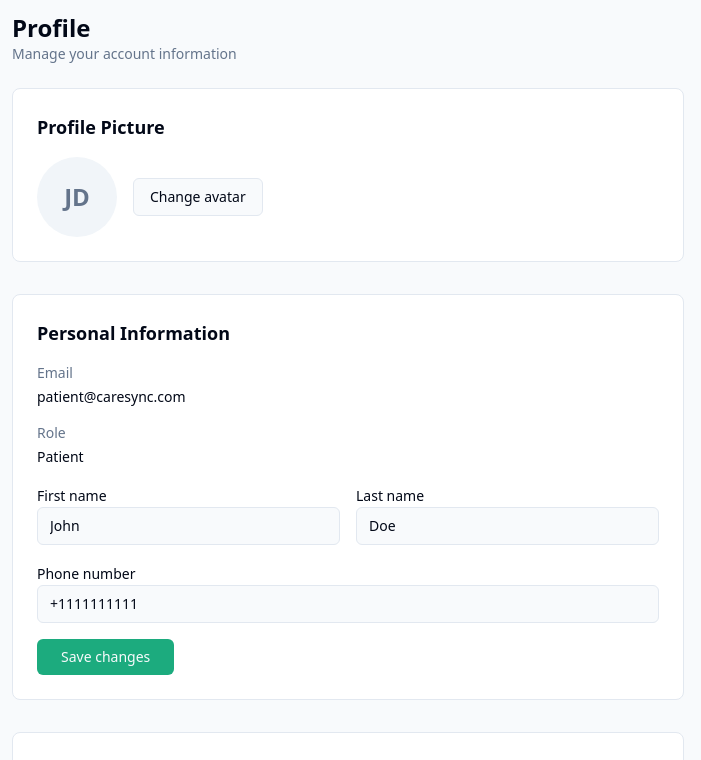
Test: ProfilePage › disables the save button while submitting
This screenshot has width=701, height=760.
Click the button with test id "save-profile-button" at (106, 657), box top-left (37, 639), bottom-right (174, 675)
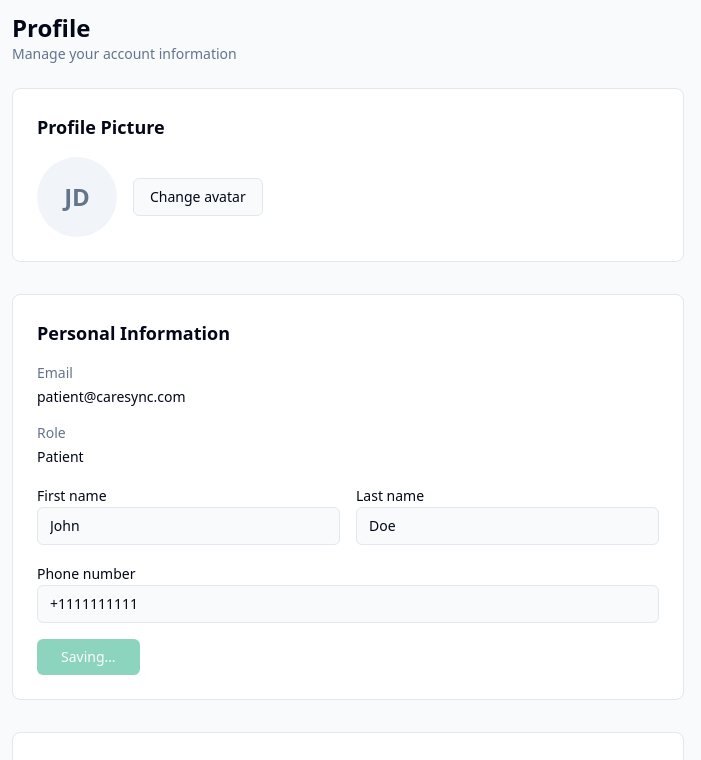
Now the button with test id "save-profile-button" is disabled, box top-left (37, 639), bottom-right (140, 675)
